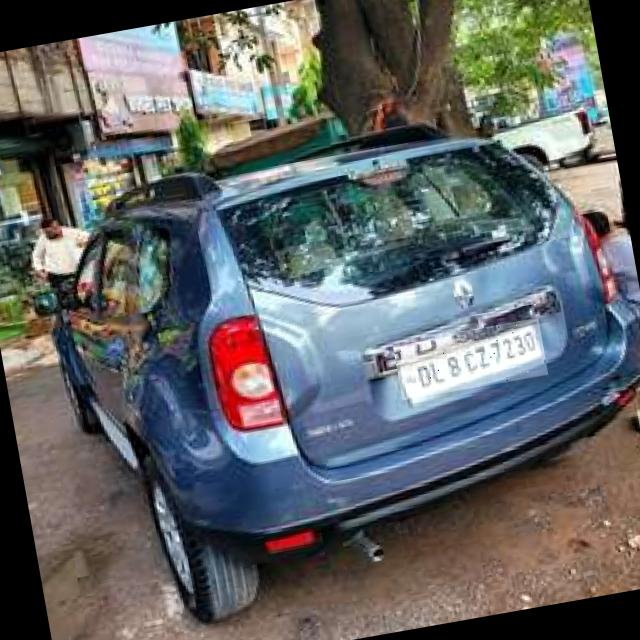Plate: (393, 319, 549, 404)
